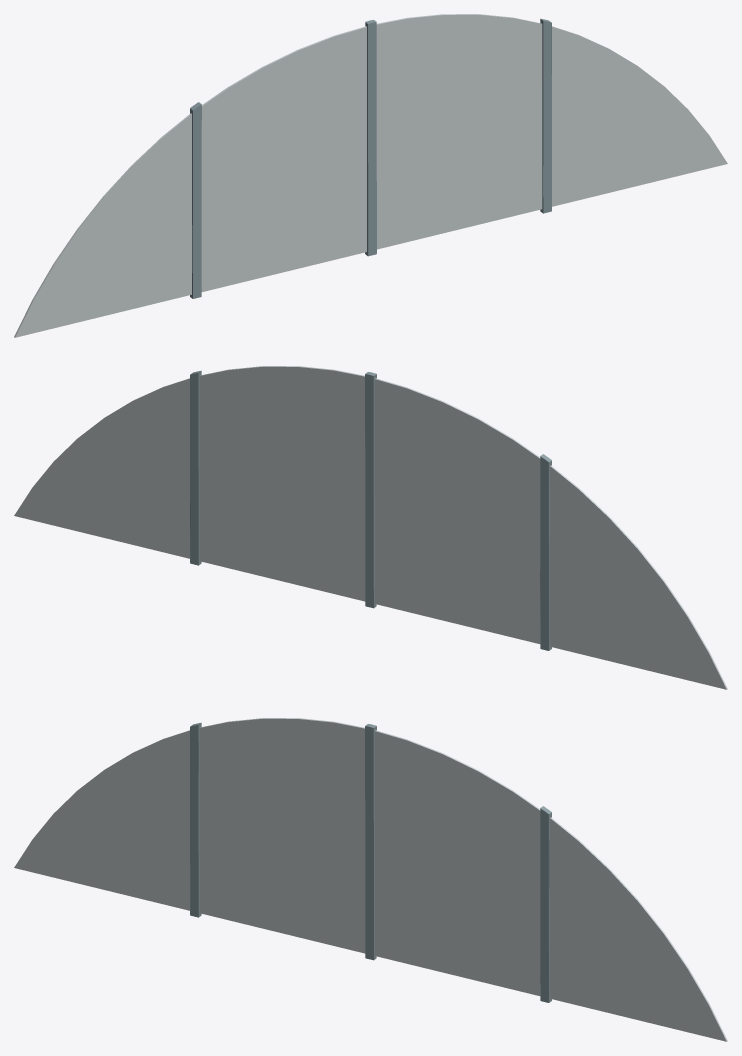
File: skylight_end.glb
3 views of the same model, one above another, from view 1: azimuth 30°, elevation 25°; view 2: azimuth 150°, elevation 25°; view 3: azimuth 330°, elevation 25° (orthographic).
Parts seen in each view (by area): view 1: skylight_end_glass, skylight_end_frame2; view 2: skylight_end_glass, skylight_end_frame2; view 3: skylight_end_glass, skylight_end_frame2.
Part boxes in pixels (box(x1,y1,x2,y2)): skylight_end_glass: box(14, 14, 727, 337); skylight_end_frame2: box(190, 18, 551, 298); skylight_end_glass: box(14, 366, 727, 689); skylight_end_frame2: box(190, 370, 551, 650); skylight_end_glass: box(14, 718, 727, 1041); skylight_end_frame2: box(190, 722, 551, 1002).
Bounding box in the file's own units: 8.14 × 2.54 × 0.06.
